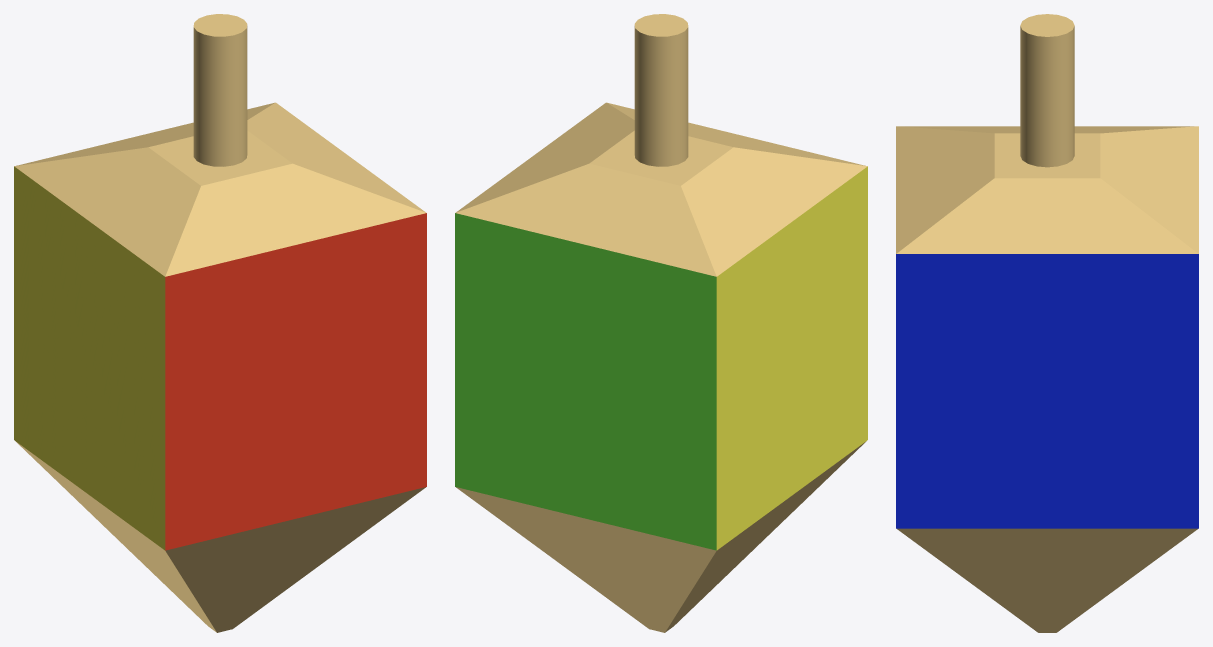
The model's file is spinner.glb.
3 renders of one model, left to right at view 1: azimuth 30°, elevation 25°; view 2: azimuth 150°, elevation 25°; view 3: azimuth 270°, elevation 25°, orthographic.
Parts seen in each view (by area): view 1: Spinner; view 2: Spinner; view 3: Spinner.
Boxes of the visible parts, x1=… form: Spinner: x1=14, y1=14, x2=426, y2=632; Spinner: x1=455, y1=14, x2=867, y2=632; Spinner: x1=896, y1=14, x2=1198, y2=632.
Bounding box in the file's own units: 2 × 4.4 × 2.
Materials: 2 (1 with a texture image).
